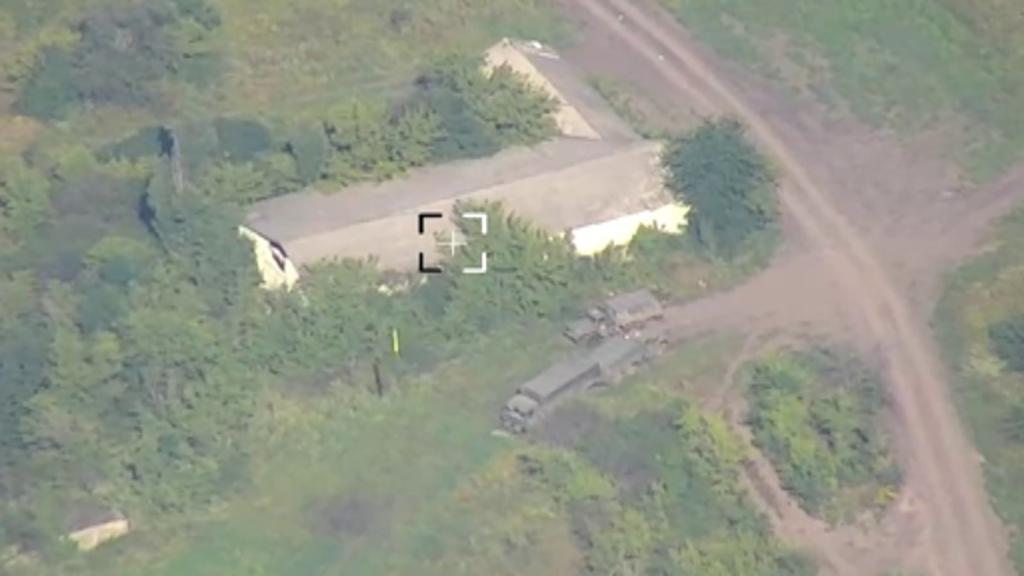TRUCK: (498, 346, 594, 437), (564, 286, 662, 344), (590, 326, 664, 389)
